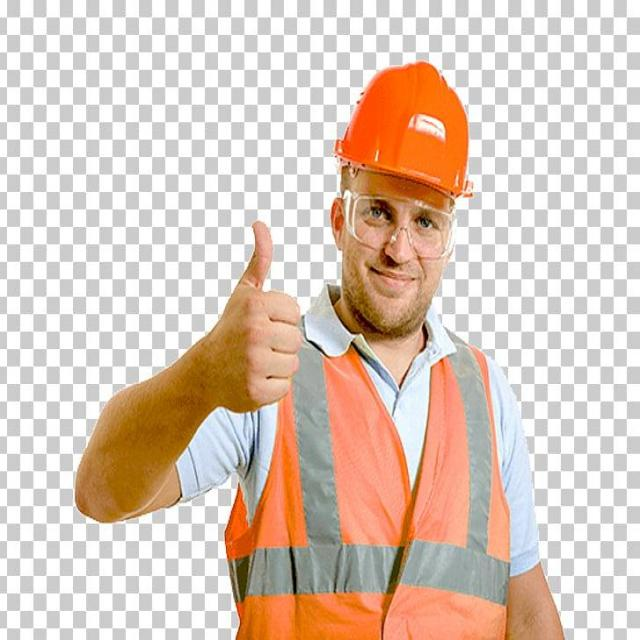Reflective-Jacket: (225, 321, 513, 633)
Safety-Helmet: (328, 57, 476, 201)
